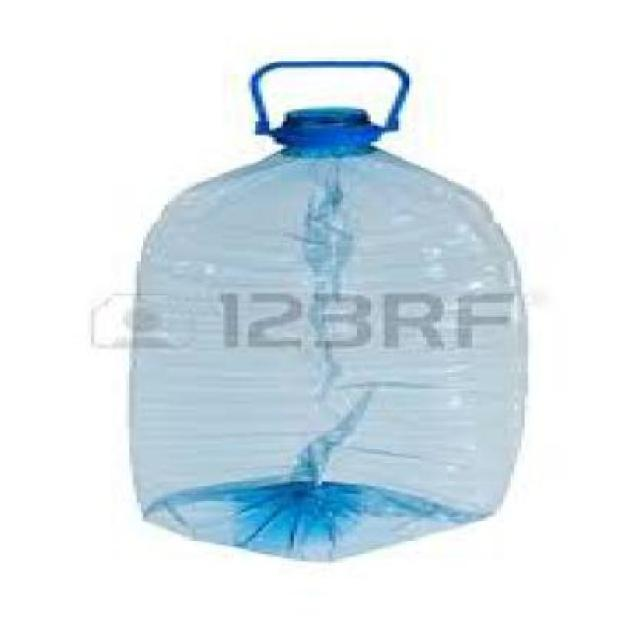PLASTIC: (126, 104, 528, 562), (248, 56, 406, 144)
